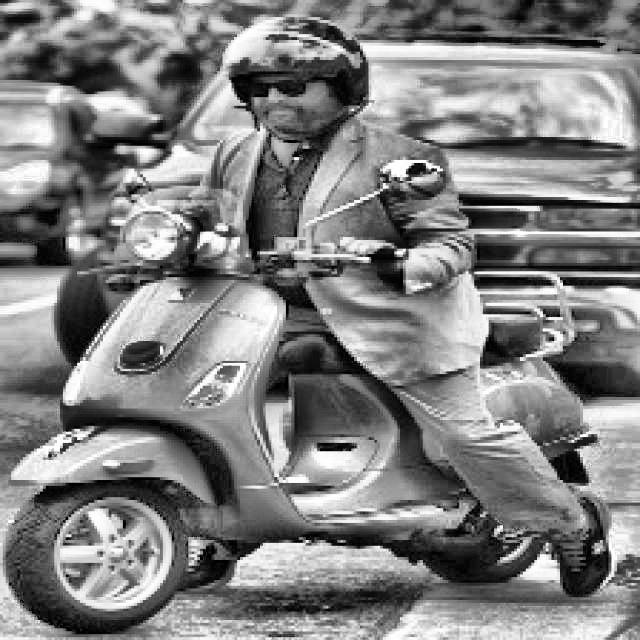motorcycle: (27, 146, 579, 627)
